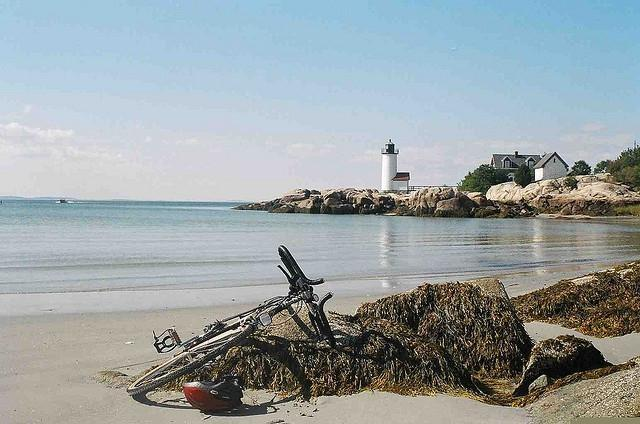bicycle: (140, 252, 332, 384)
